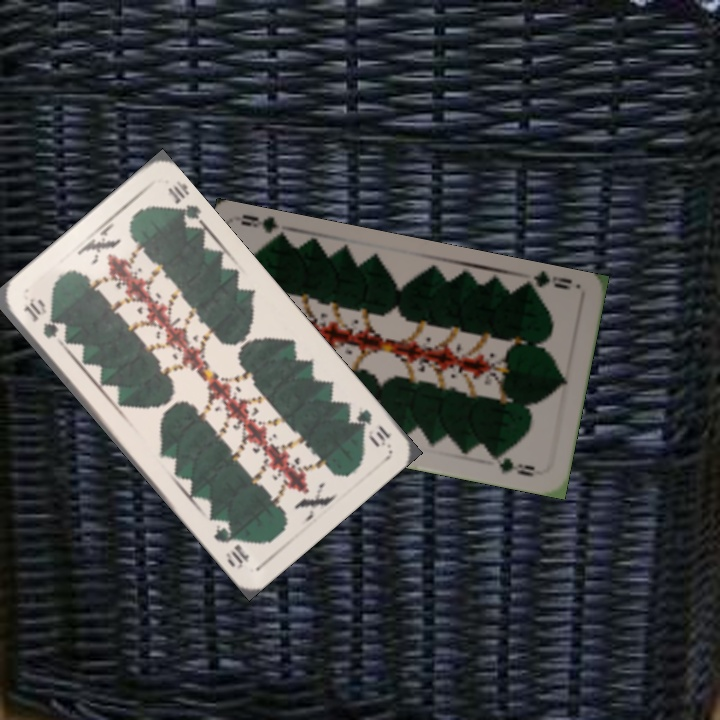G10: (18, 294, 61, 341), (351, 405, 393, 450)
G9: (520, 269, 575, 296)
